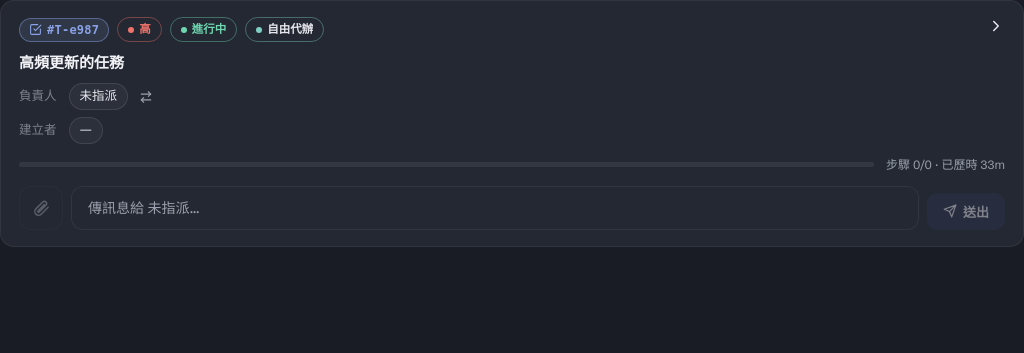
TaskCard transitional copy (T-71e8 · B) › unassigned outsource → 「等待指派」 (unchanged)
Click the button with test id "task-card" at [512, 232], box [0,0,1023,247]
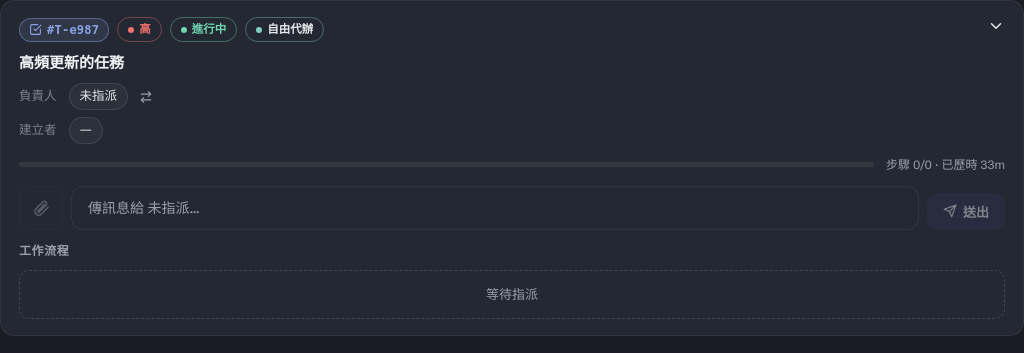
Result: the text with test id "task-transition" reads "等待指派" at [486,286,538,302]
